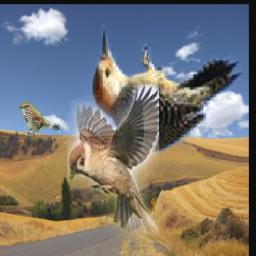Sparrow: (67, 85, 159, 240), (19, 102, 61, 137)
Woodpecker: (79, 22, 249, 154)
